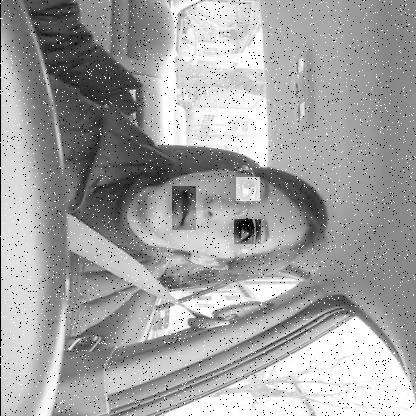seatbelt: (65, 160, 333, 296)
